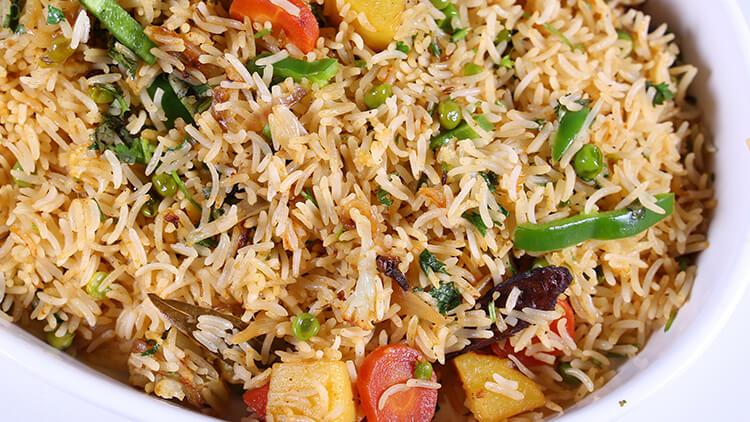veg-pulao: (10, 10, 706, 404)
